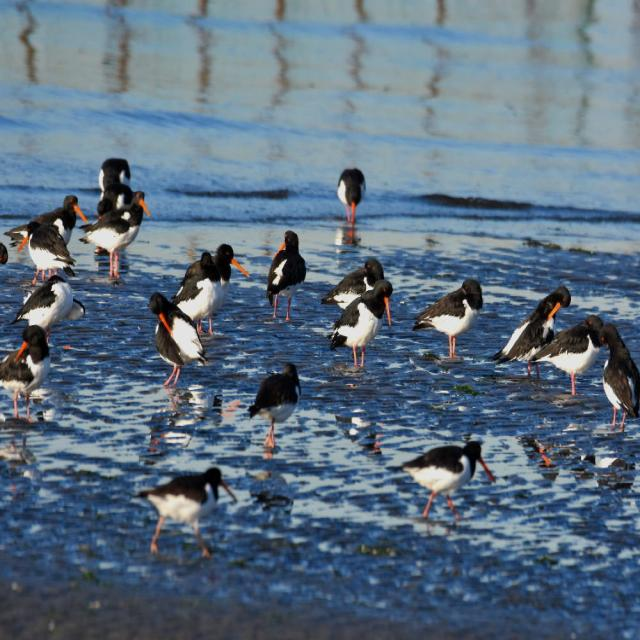bird: (156, 245, 245, 353), (134, 466, 235, 560), (318, 258, 396, 377), (385, 441, 494, 522), (84, 160, 152, 284), (489, 285, 576, 378), (524, 313, 604, 397), (148, 295, 215, 389), (3, 198, 88, 272), (414, 279, 486, 360), (0, 324, 53, 424), (594, 323, 640, 433), (249, 363, 303, 447), (13, 270, 78, 336), (266, 236, 309, 324), (338, 166, 367, 231)
